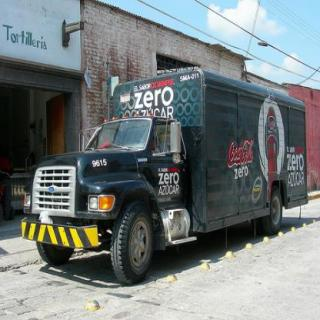Normal_vehicle: (25, 68, 312, 267)
